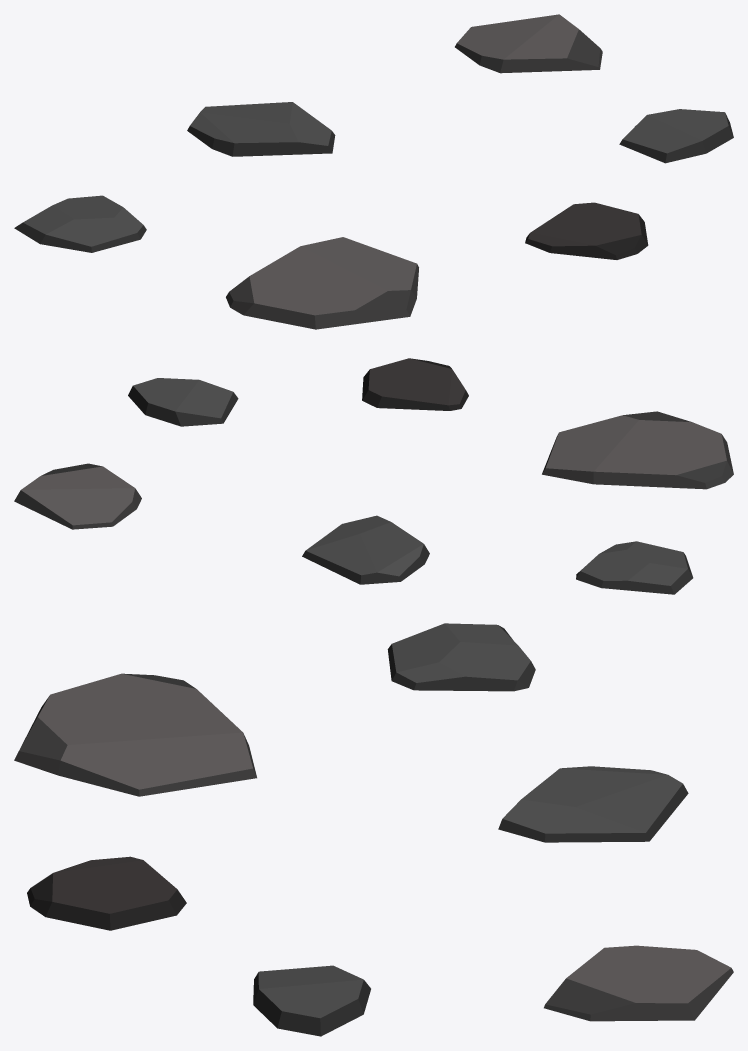
File: Rock_Patch_03.glb
3 renders of one model, top to bottom at view 1: azimuth 30°, elevation 25°; view 2: azimuth 150°, elevation 25°; view 3: azimuth 270°, elevation 25°, orthographic. The views are drawn at different scales.
Visible parts, largest first — view 1: Rock_Patch_03; view 2: Rock_Patch_03; view 3: Rock_Patch_03.
Part boxes in pixels (x1=…): Rock_Patch_03: x1=14, y1=14, x2=733, y2=329; Rock_Patch_03: x1=14, y1=358, x2=733, y2=594; Rock_Patch_03: x1=14, y1=623, x2=733, y2=1036.
Size of what is drawn, in the model's own units: 1.94 by 0.0359 by 1.45.
1 material, 1 textured.
